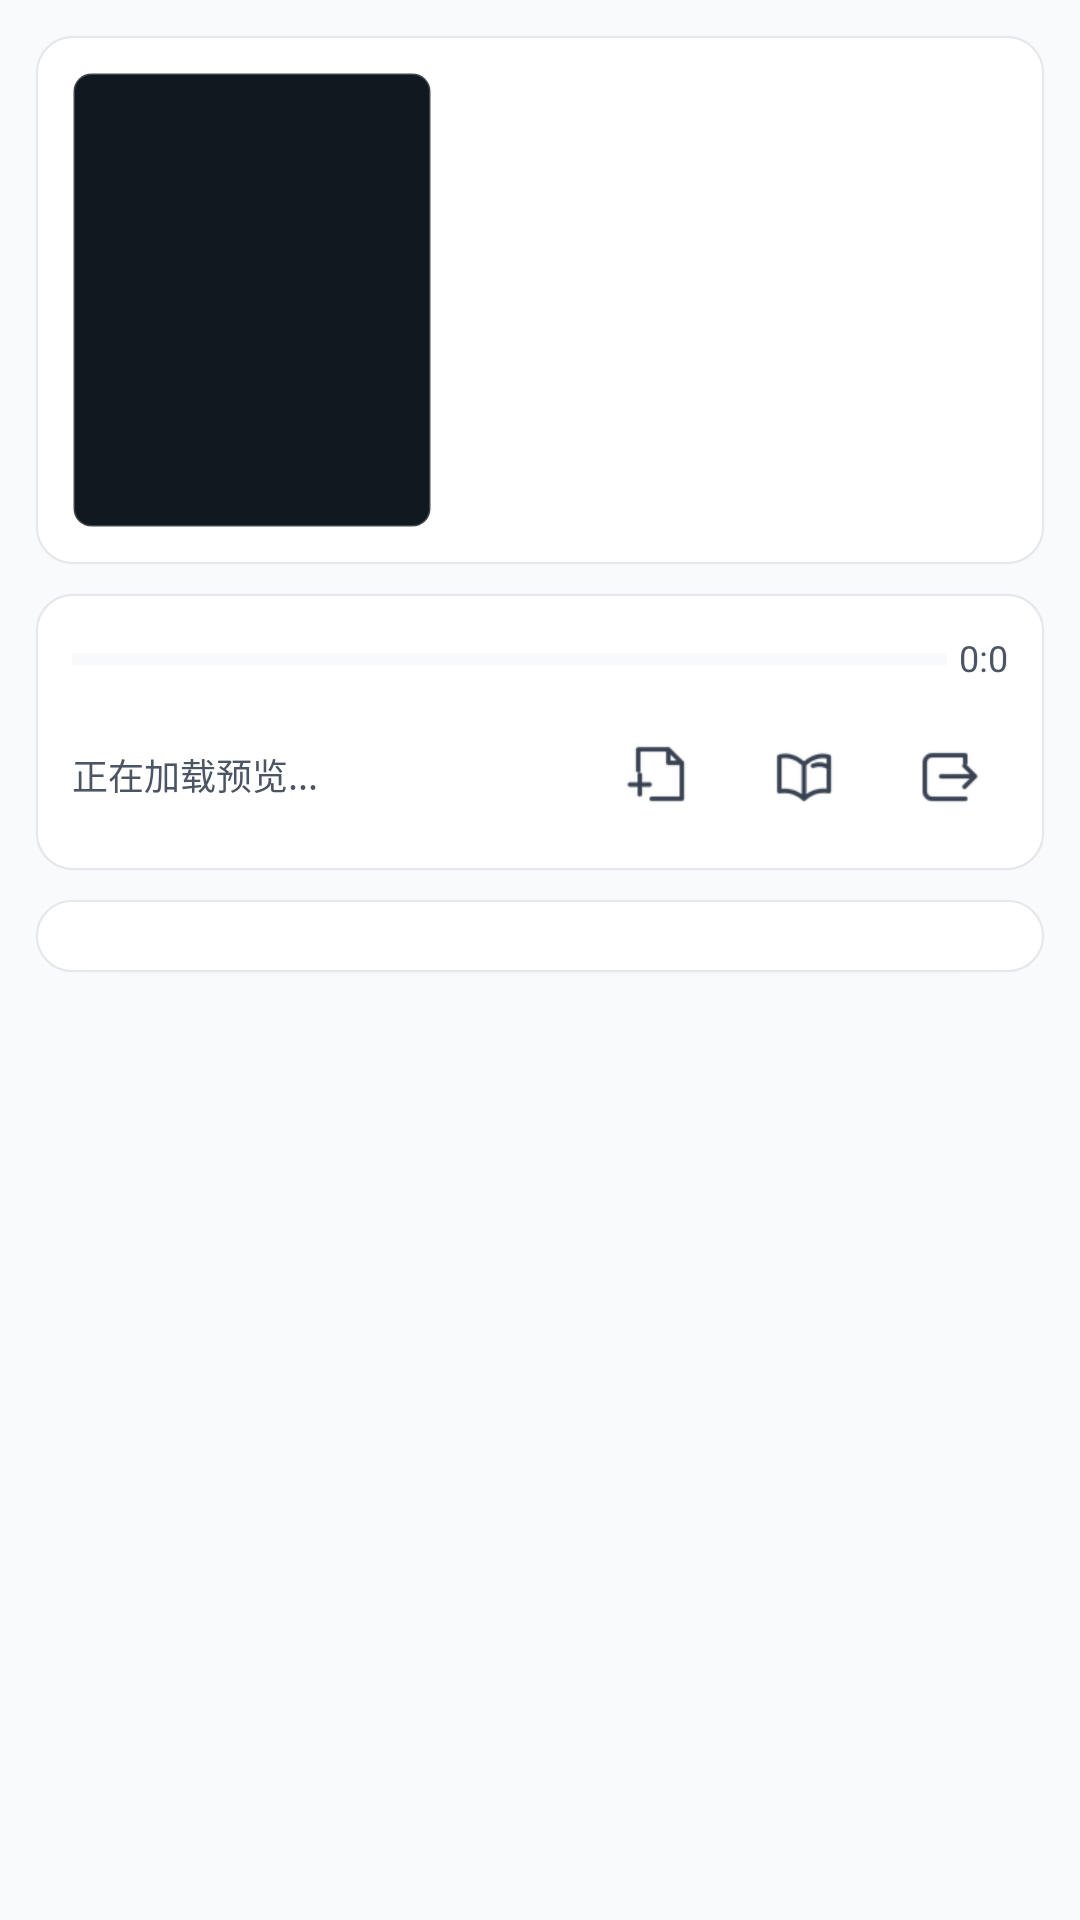

Screen size 1080w x 1920h. Icon name, then its box in pixels as (x1, y1, x2, y2):
收藏漫画: (627, 746, 685, 802)
退出: (922, 752, 978, 802)
阅读: (776, 753, 832, 802)
